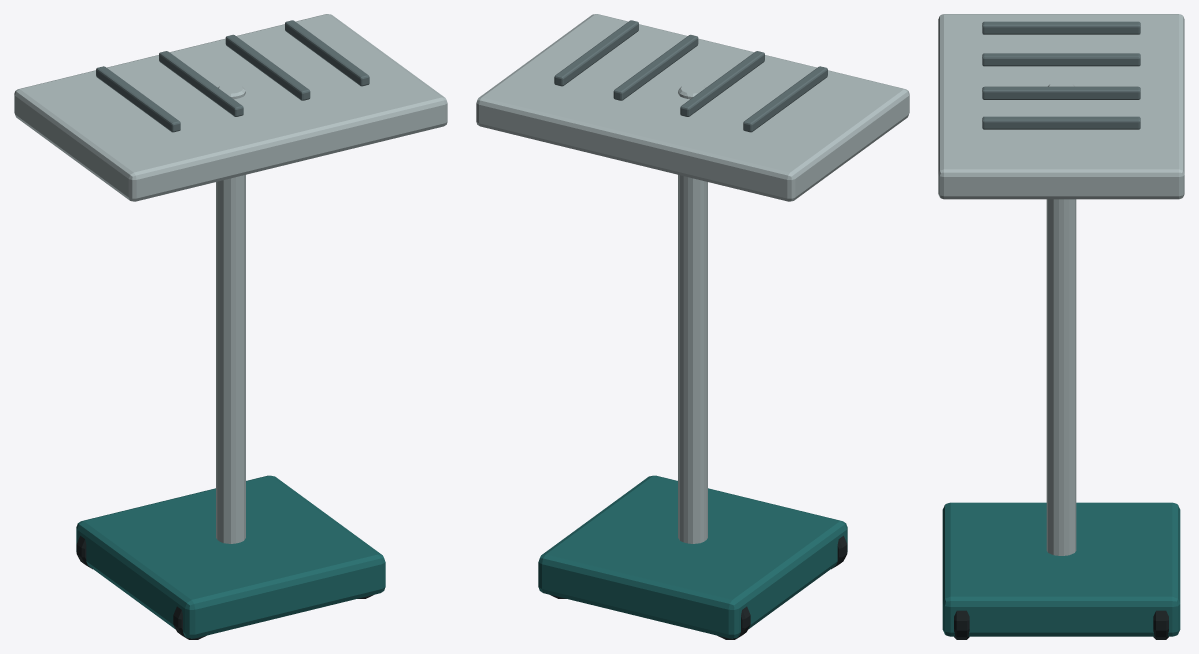
Rendered from MH12_Surgical_Instrument_Tray.glb.
3 renders of one model, left to right at view 1: azimuth 30°, elevation 25°; view 2: azimuth 150°, elevation 25°; view 3: azimuth 270°, elevation 25°, orthographic. The views are drawn at different scales.
Visible parts, largest first — view 1: Tray, Base, Support, Instrument_03, Instrument_01, Instrument_02, Instrument_04; view 2: Tray, Base, Support, Instrument_03, Instrument_01, Instrument_02, Instrument_04; view 3: Tray, Base, Support, Instrument_02, Instrument_04, Instrument_01, Instrument_03, Tray_Caster_01_Tire, Tray_Caster_04_Tire.
Boxes of the visible parts, <box> form: Tray: <box>14,14,447,201</box>; Base: <box>76,475,385,638</box>; Support: <box>216,83,245,543</box>; Instrument_03: <box>225,34,310,100</box>; Instrument_01: <box>96,66,180,132</box>; Instrument_02: <box>159,51,243,116</box>; Instrument_04: <box>285,20,369,86</box>; Tray: <box>476,14,909,201</box>; Base: <box>538,475,847,638</box>; Support: <box>678,83,707,543</box>; Instrument_03: <box>613,34,698,100</box>; Instrument_01: <box>743,66,827,132</box>; Instrument_02: <box>680,51,764,116</box>; Instrument_04: <box>554,20,638,86</box>; Tray: <box>938,14,1184,199</box>; Base: <box>942,502,1180,636</box>; Support: <box>1046,81,1076,555</box>; Instrument_02: <box>982,53,1140,66</box>; Instrument_04: <box>982,116,1140,129</box>; Instrument_01: <box>982,21,1140,34</box>; Instrument_03: <box>982,86,1140,99</box>; Tray_Caster_01_Tire: <box>1153,610,1168,639</box>; Tray_Caster_04_Tire: <box>954,610,969,639</box>.
Bounding box in the file's own units: 0.86 × 1.32 × 0.56.
